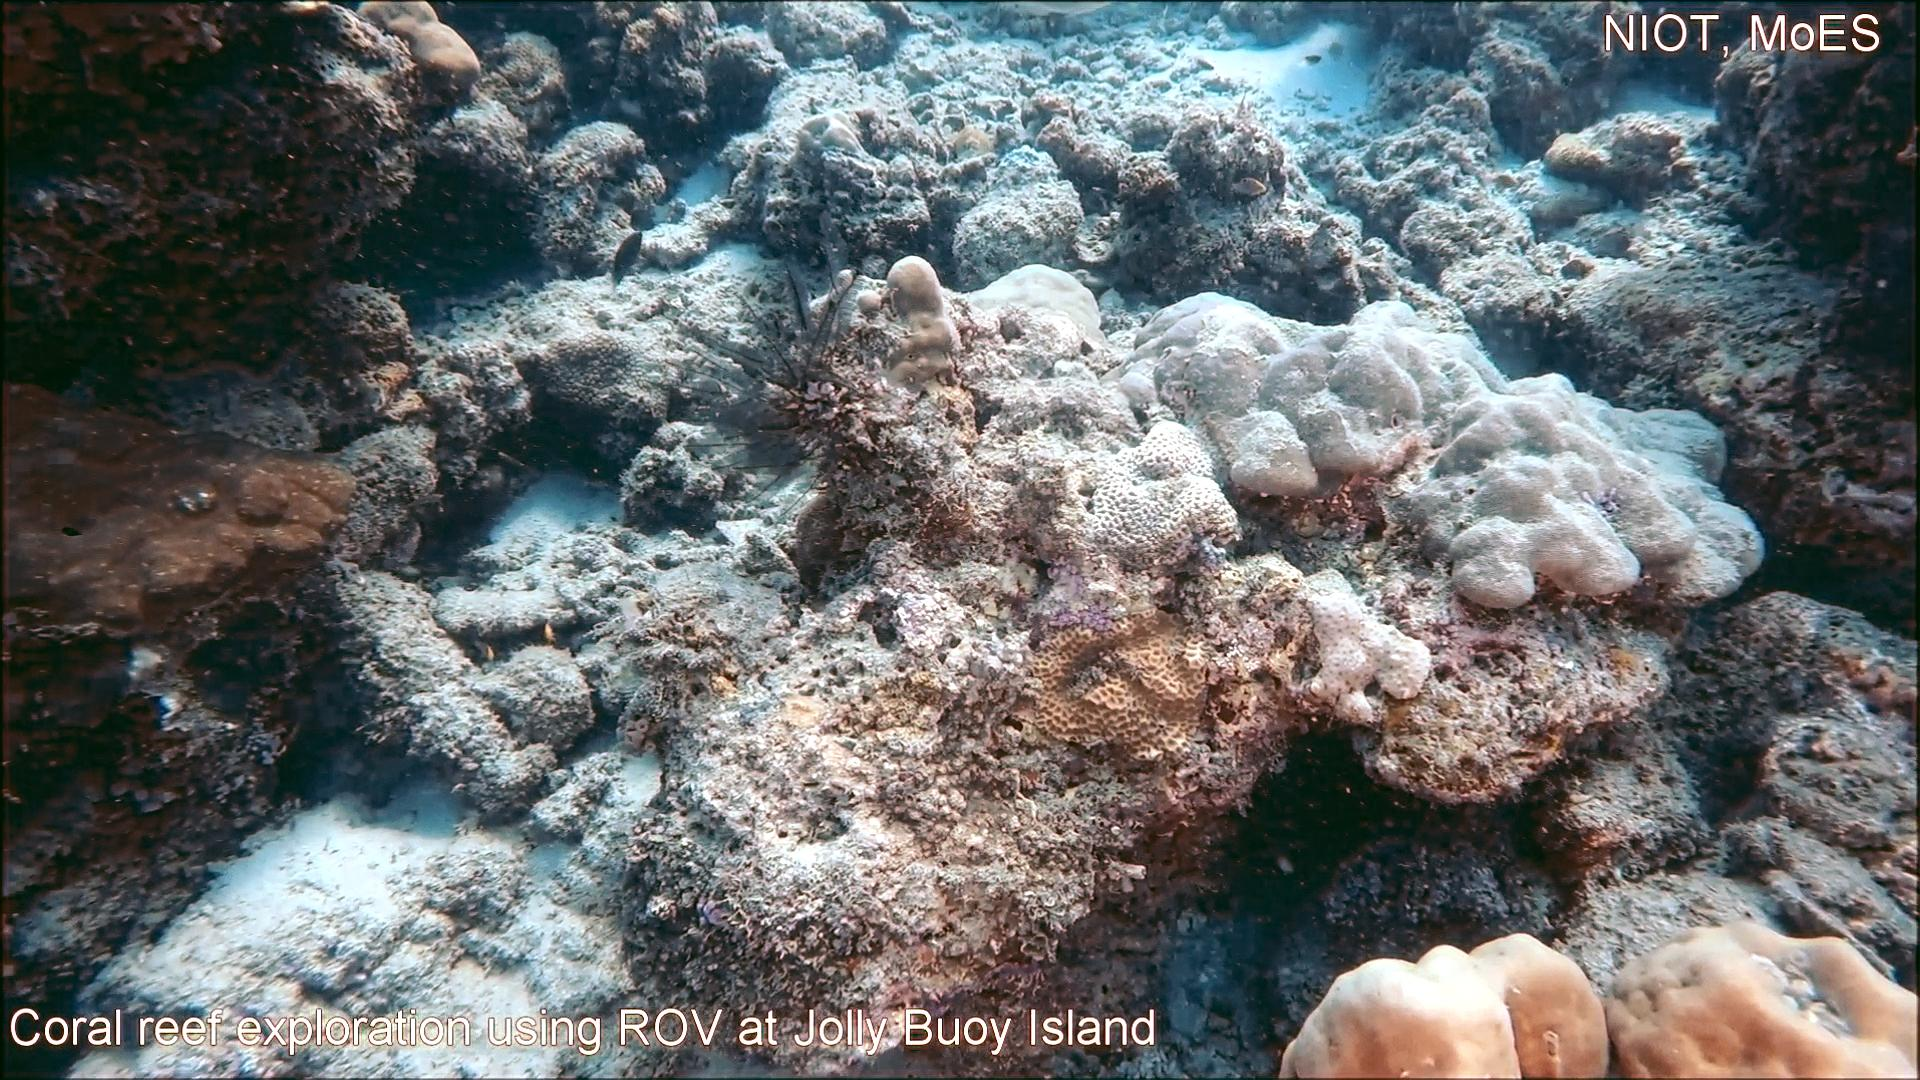Feather star-Crinoid star: (647, 208, 878, 545)
Goniastrea-Goniastrea pectinata: (1083, 410, 1255, 582)
Porites-Porites pukoensis: (1324, 293, 1772, 618)
Turbinaria-Turbinaria stellulata: (527, 322, 666, 426)
